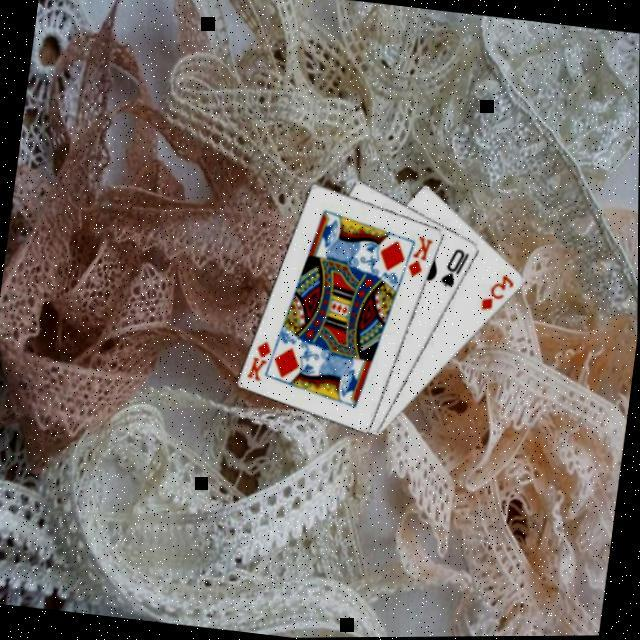10S: (438, 242, 475, 291)
3D: (478, 267, 520, 315)
KD: (404, 230, 438, 280), (246, 334, 276, 384)
